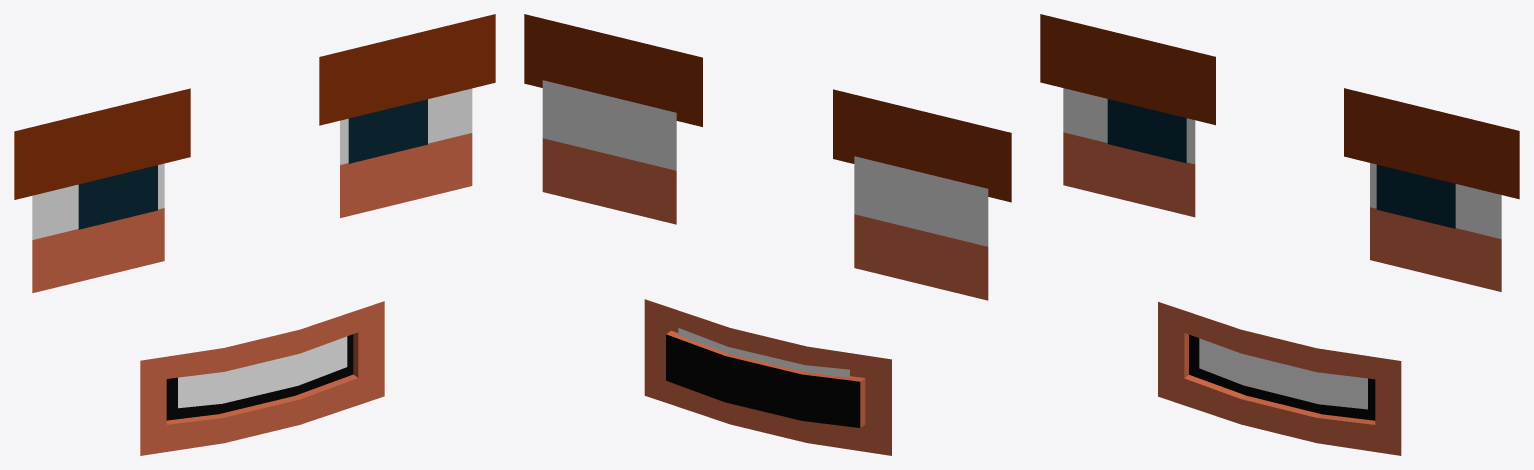
Rendered from Face Male 03.FBX.
The picture shows the model from 3 angles, left to right: view 1: azimuth 30°, elevation 25°; view 2: azimuth 150°, elevation 25°; view 3: azimuth 330°, elevation 25°; orthographic projection.
Parts seen in each view (by area): view 1: Face Male 03; view 2: Face Male 03; view 3: Face Male 03.
Part boxes in pixels (x1,y1,x2,y2): Face Male 03: [14, 14, 495, 455]; Face Male 03: [524, 14, 1011, 455]; Face Male 03: [1040, 14, 1519, 455].
Size of the model in its own units: 43.38 by 30.95 by 1.01.
1 material, 1 textured.
